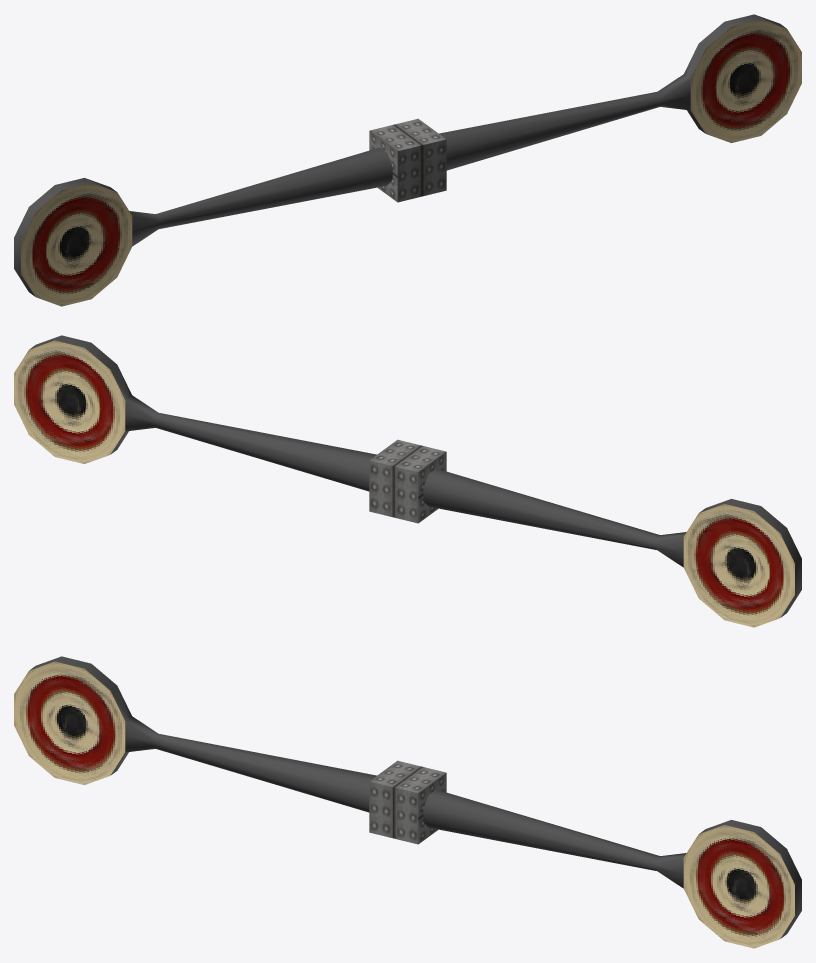
The model's file is Modul17_Dreharme.obj.
3 views of the same model, one above another, from view 1: azimuth 30°, elevation 25°; view 2: azimuth 150°, elevation 25°; view 3: azimuth 330°, elevation 25° (orthographic).
Parts seen in each view (by area): view 1: Modul17_Dreharme; view 2: Modul17_Dreharme; view 3: Modul17_Dreharme.
Boxes of the visible parts, x1,y1,x2,y2 form: Modul17_Dreharme: (14,14,801,306); Modul17_Dreharme: (14,335,801,627); Modul17_Dreharme: (14,656,801,948).
Size of the model in its own units: 23.26 by 3.31 by 1.46.
